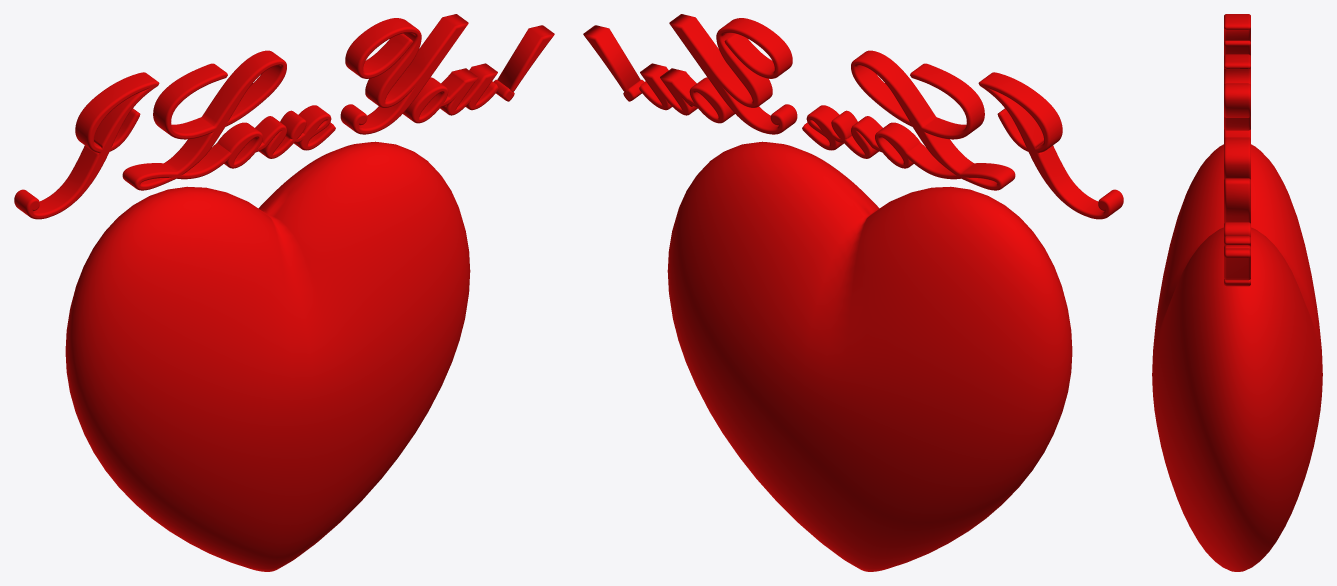
File: heart.glb
3 views of the same model, side by side, from view 1: azimuth 30°, elevation 25°; view 2: azimuth 150°, elevation 25°; view 3: azimuth 270°, elevation 25° (orthographic). The views are drawn at different scales.
Visible parts, largest first — view 1: Sphere_Sphere.004, Text.001_CUText.001, Text_CUText, Text.002_CUText.002; view 2: Sphere_Sphere.004, Text.001_CUText.001, Text_CUText, Text.002_CUText.002; view 3: Sphere_Sphere.004, Text.001_CUText.001, Text_CUText, Text.002_CUText.002.
Part boxes in pixels (x1,y1,x2,y2): Sphere_Sphere.004: [65, 141, 470, 571]; Text.001_CUText.001: [340, 14, 554, 134]; Text_CUText: [122, 50, 335, 190]; Text.002_CUText.002: [14, 72, 159, 219]; Sphere_Sphere.004: [667, 141, 1072, 571]; Text.001_CUText.001: [583, 14, 797, 134]; Text_CUText: [802, 50, 1015, 190]; Text.002_CUText.002: [978, 72, 1123, 219]; Sphere_Sphere.004: [1152, 144, 1322, 571]; Text.001_CUText.001: [1224, 138, 1250, 286]; Text_CUText: [1224, 54, 1250, 139]; Text.002_CUText.002: [1224, 14, 1250, 55].
Size of the model in its own units: 2.68 by 2.53 by 0.797.
